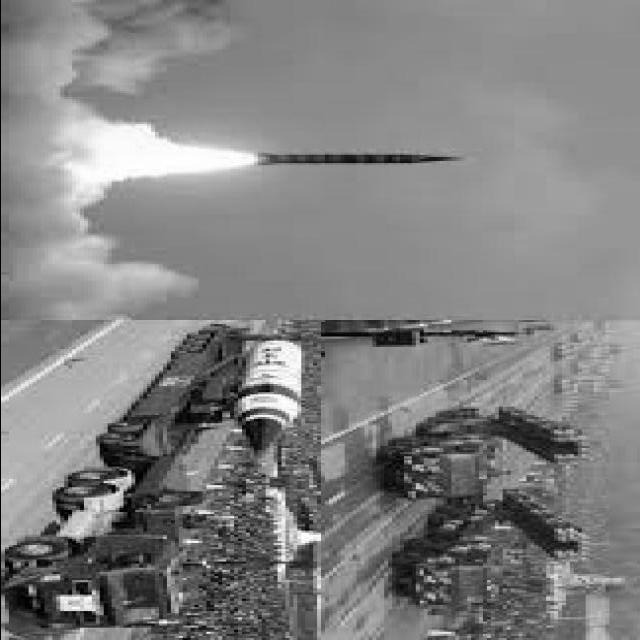missile: (232, 338, 315, 454), (252, 149, 462, 166)
